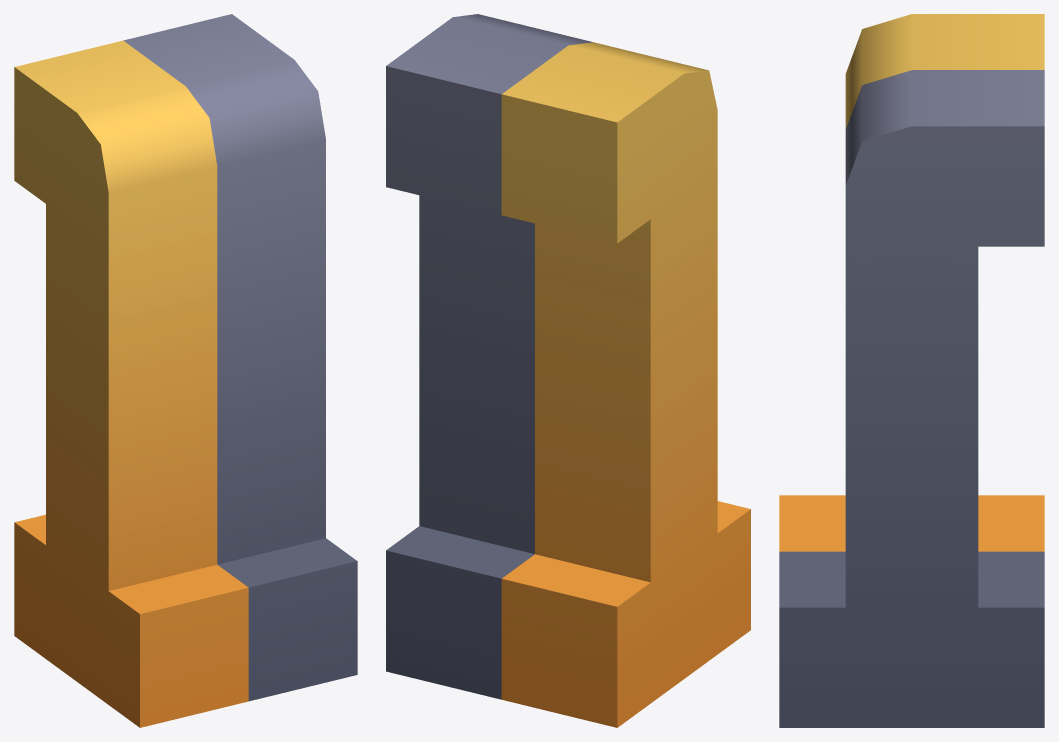
The model's file is kenney-prototype-number-double-1.glb.
The picture shows the model from 3 angles, left to right: view 1: azimuth 30°, elevation 25°; view 2: azimuth 150°, elevation 25°; view 3: azimuth 270°, elevation 25°; orthographic projection. The views are drawn at different scales.
Parts seen in each view (by area): view 1: number-double-1; view 2: number-double-1; view 3: number-double-1.
Boxes of the visible parts, x1,y1,x2,y2 form: number-double-1: (14,14,357,727); number-double-1: (386,14,750,727); number-double-1: (779,14,1044,727).
Size of the model in its own units: 0.2 by 0.5 by 0.2.
1 material, 1 textured.
